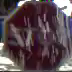Stop: (4, 0, 71, 71)
